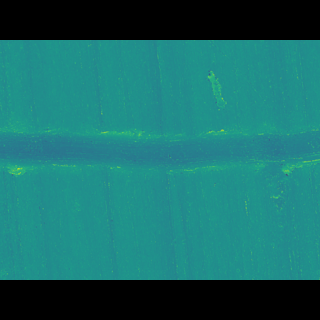Loch: (0, 130, 320, 177)
